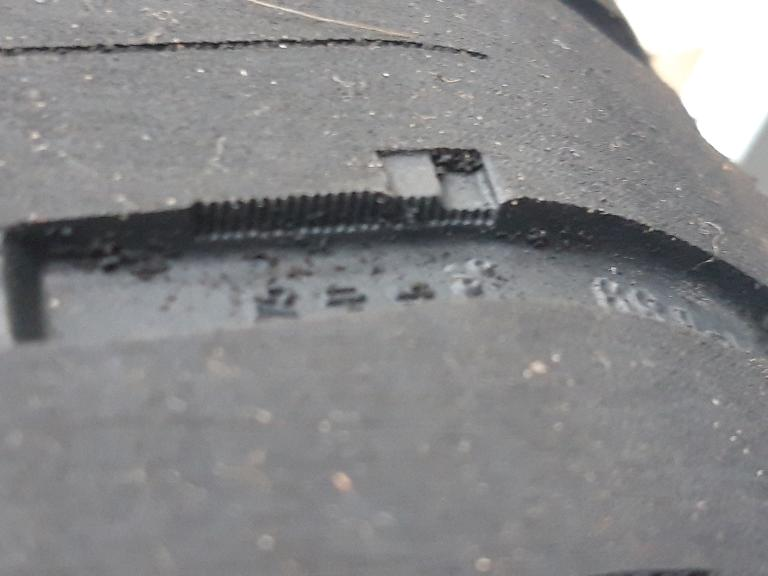temoin:25: (367, 137, 516, 247)
